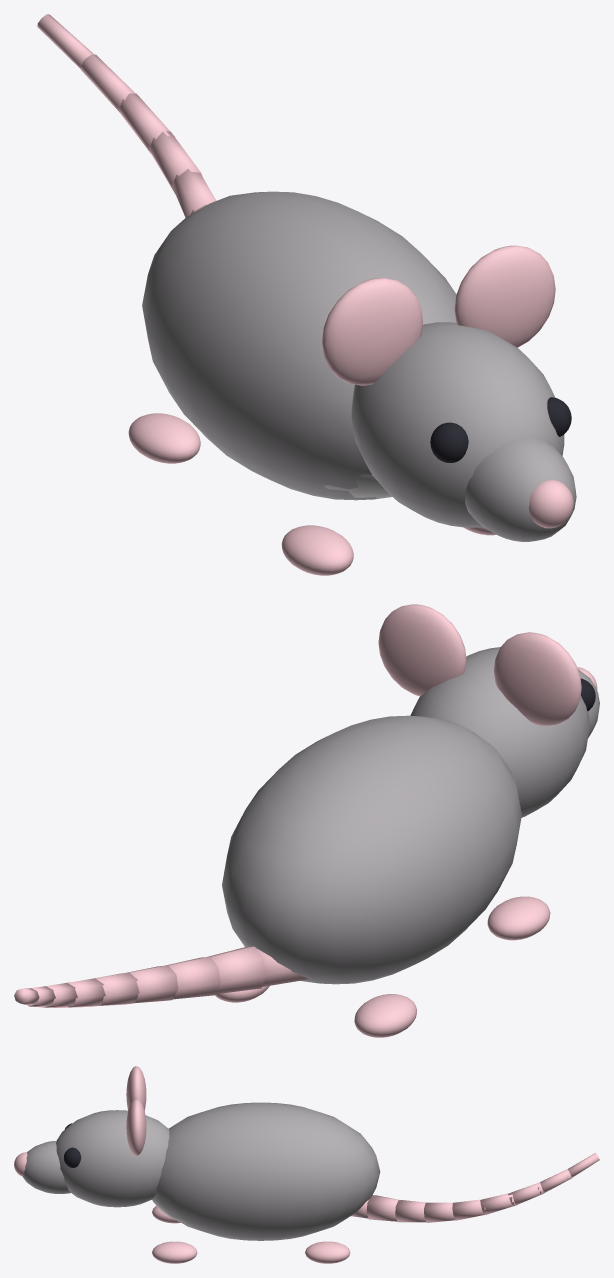
The model's file is rat.glb.
The picture shows the model from 3 angles, top to bottom: view 1: azimuth 30°, elevation 25°; view 2: azimuth 150°, elevation 25°; view 3: azimuth 270°, elevation 25°; orthographic projection. The views are drawn at different scales.
Visible parts, largest first — view 1: rat_body, rat_head, rat_ear_-1, rat_ear_1, rat_snout, rat_paw_-1_0.09, rat_paw_-1_-0.07, rat_nose, rat_tail_5, rat_tail_6, rat_tail_7, rat_tail_4 (+3 smaller); view 2: rat_body, rat_head, rat_ear_-1, rat_ear_1, rat_paw_-1_-0.07, rat_paw_-1_0.09, rat_tail_1, rat_tail_2, rat_tail_3, rat_tail_4, rat_tail_5, rat_tail_0 (+1 smaller); view 3: rat_body, rat_head, rat_snout, rat_ear_1, rat_paw_1_-0.07, rat_paw_1_0.09, rat_tail_1, rat_ear_-1, rat_tail_2, rat_tail_3, rat_tail_4, rat_tail_5 (+4 smaller).
Boxes of the visible parts, x1,y1,x2,y2 form: rat_body: (142, 191, 456, 500); rat_head: (351, 322, 564, 527); rat_ear_-1: (322, 278, 422, 385); rat_ear_1: (454, 245, 555, 347); rat_snout: (465, 437, 576, 541); rat_paw_-1_0.09: (128, 413, 200, 463); rat_paw_-1_-0.07: (281, 525, 353, 575); rat_nose: (529, 480, 573, 528); rat_tail_5: (148, 131, 202, 193); rat_tail_6: (117, 93, 174, 154); rat_tail_7: (80, 54, 135, 112); rat_tail_4: (171, 169, 216, 217); rat_body: (222, 715, 521, 984); rat_head: (410, 647, 589, 817); rat_ear_-1: (493, 632, 581, 726); rat_ear_1: (378, 604, 466, 696); rat_paw_-1_-0.07: (487, 896, 550, 940); rat_paw_-1_0.09: (354, 994, 416, 1037); rat_tail_1: (207, 946, 265, 993); rat_tail_2: (165, 957, 220, 999); rat_tail_3: (129, 965, 178, 1003); rat_tail_4: (95, 972, 139, 1006); rat_tail_5: (67, 978, 105, 1007); rat_tail_0: (256, 948, 308, 986); rat_body: (152, 1102, 380, 1240); rat_head: (56, 1110, 169, 1207); rat_snout: (22, 1141, 70, 1193); rat_ear_1: (126, 1098, 146, 1155); rat_paw_1_-0.07: (152, 1241, 197, 1263); rat_paw_1_0.09: (305, 1241, 350, 1263); rat_tail_1: (366, 1195, 400, 1221); rat_ear_-1: (126, 1066, 146, 1110); rat_tail_2: (395, 1200, 425, 1222); rat_tail_3: (424, 1202, 455, 1222); rat_tail_4: (452, 1199, 487, 1220); rat_tail_5: (480, 1192, 515, 1215).
Bounding box in the file's own units: 0.15 × 0.1802 × 0.6126.
